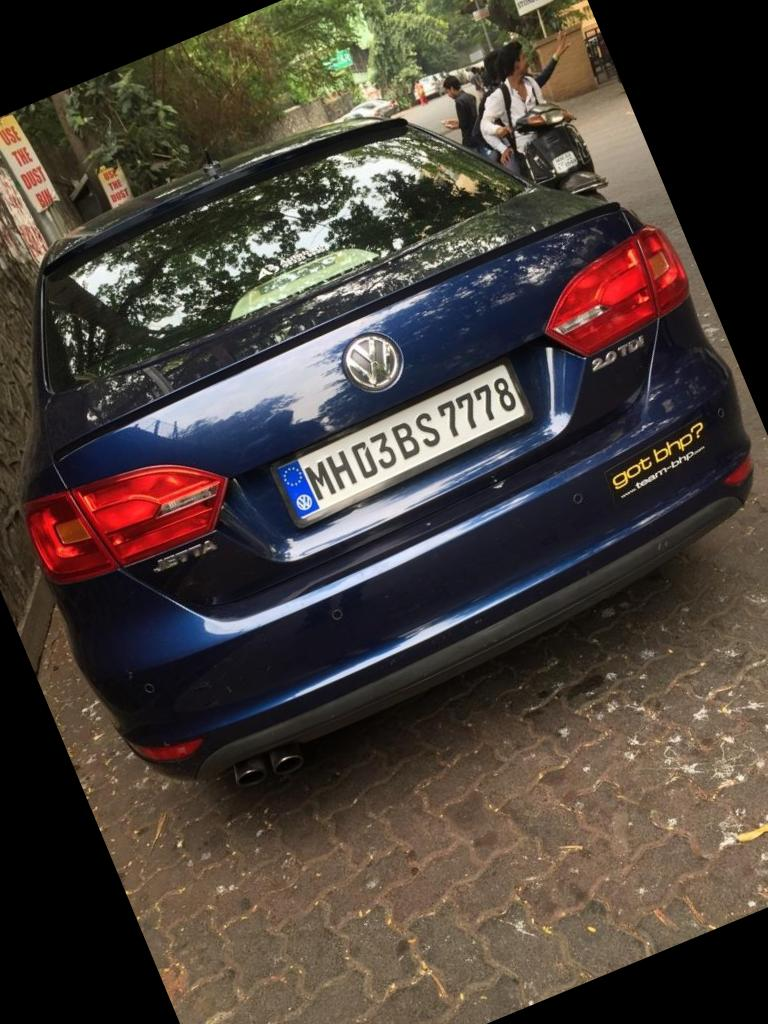plate: (261, 357, 551, 533)
